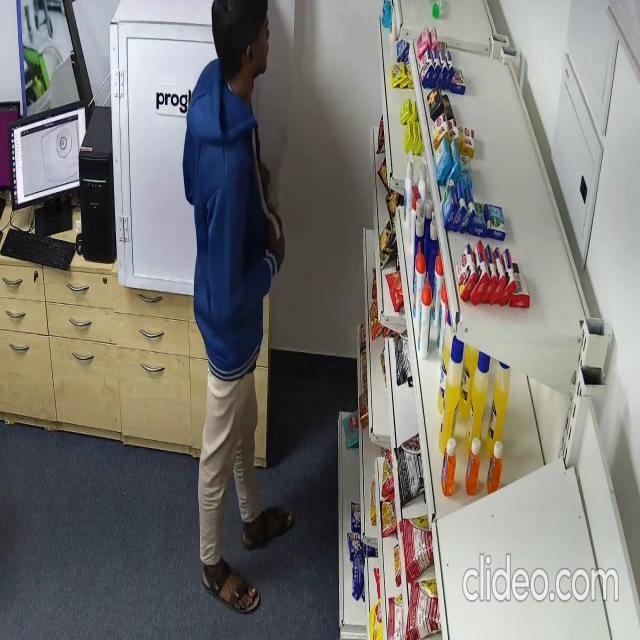Shoplifting: (180, 0, 298, 616)
